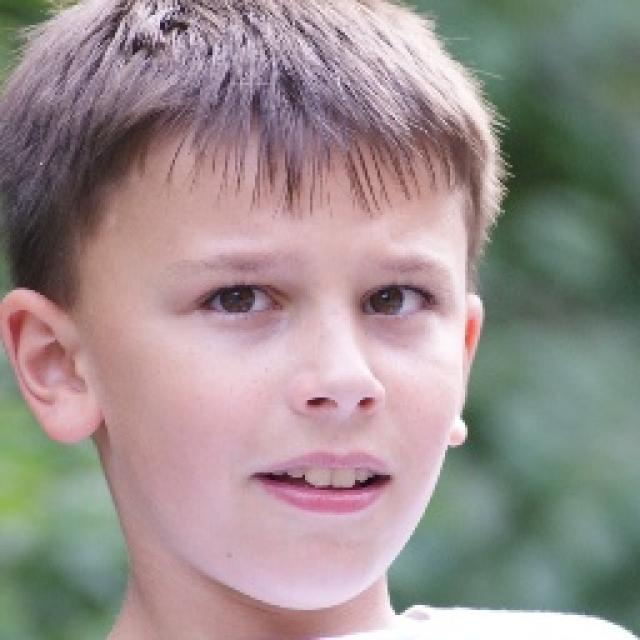earlobe: (30, 405, 107, 448), (445, 417, 475, 450)
eye: (189, 280, 287, 323), (358, 286, 444, 322)
nose: (288, 403, 383, 446)
wholeear: (0, 285, 108, 445), (444, 291, 484, 450)
